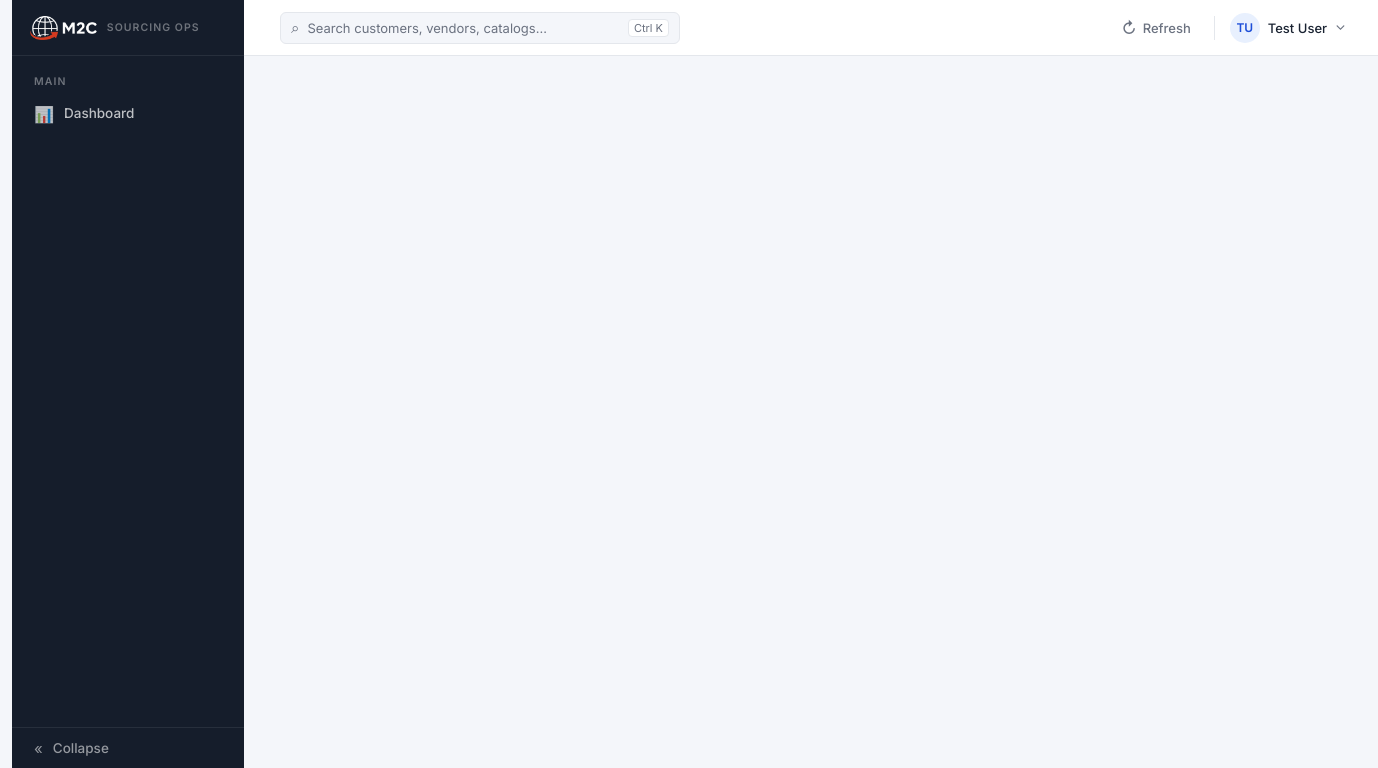
Test: ShellComponent › shows the Change password control, routed to /account/password, with the permission
The image size is (1378, 768).
Click the button with class "topbar__user-btn": (1290,28) [1227,10,1354,46]
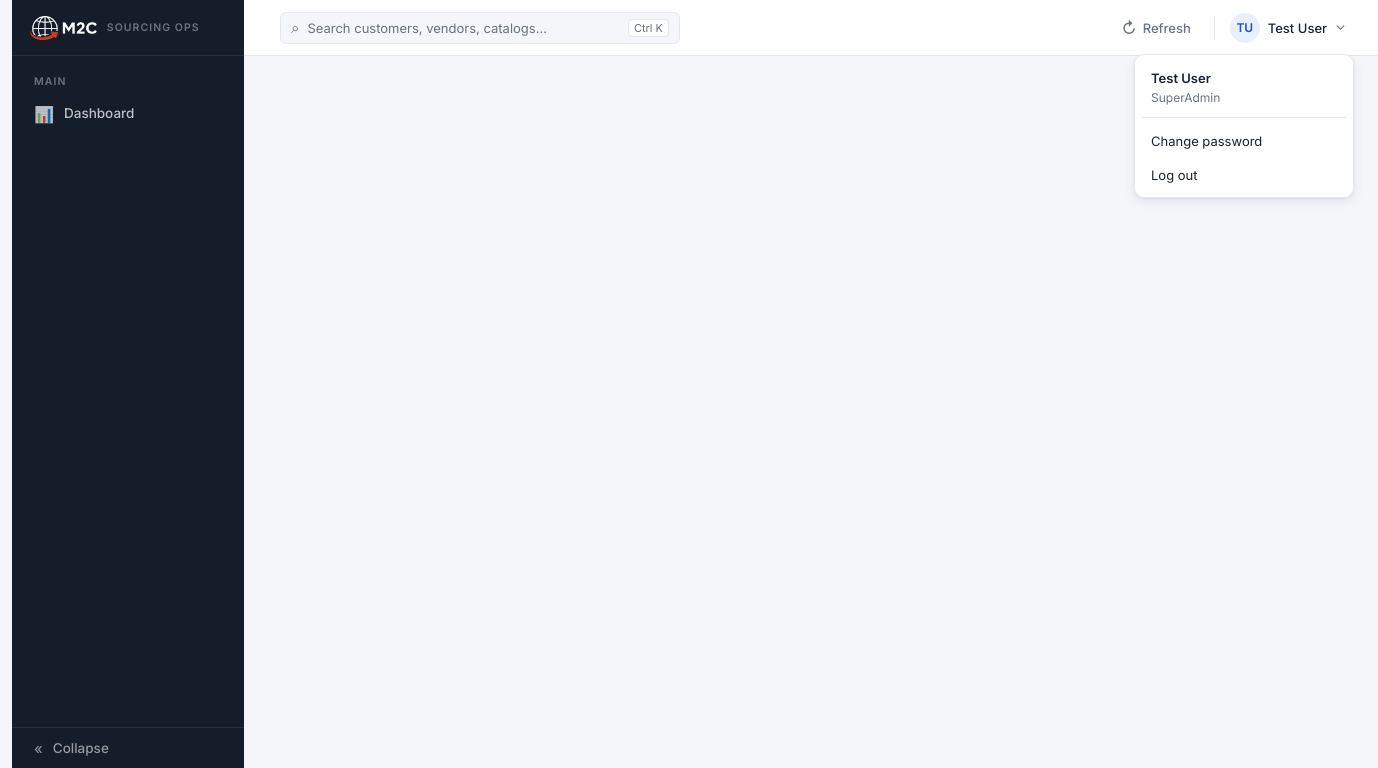
Now the menu item with class "topbar__account-link" reads "Change password", box [1151,133,1262,149]
